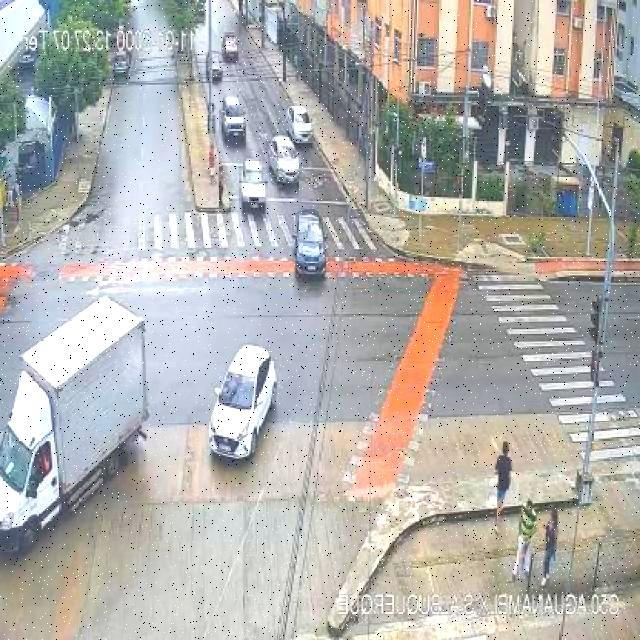Car: (205, 346, 283, 458), (294, 212, 331, 277), (270, 138, 304, 188), (236, 158, 268, 211), (221, 94, 246, 143), (285, 103, 313, 145), (222, 33, 239, 58)
Truck: (0, 302, 149, 543)
